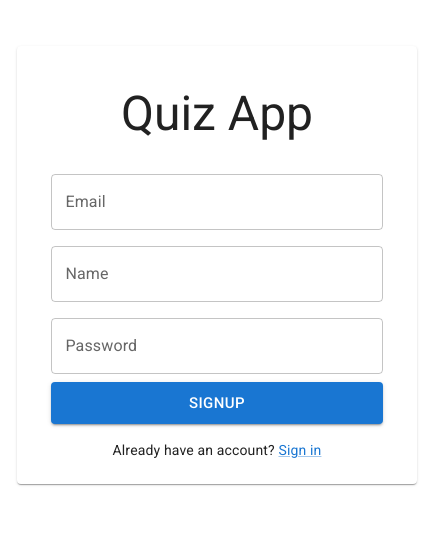
Test: Signup Component › validates email, name, and password fields
The width and height of the screenshot is (435, 538).
Click the button "Signup".
click(217, 403)  # box [51, 382, 383, 424]
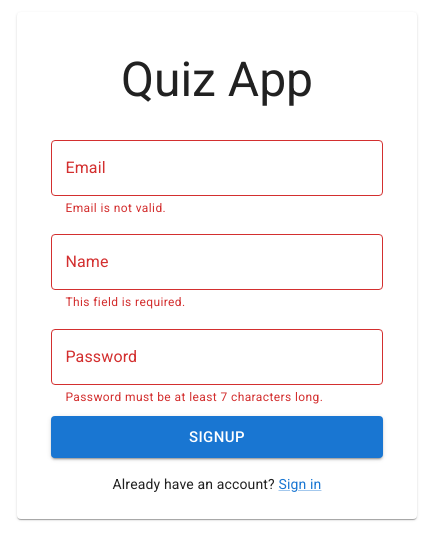
Check: the text "Email is not valid." is shown, box [65, 200, 166, 214]
Check: the text "This field is required." is shown, box [65, 295, 186, 309]
Check: the text "Password must be at least 7 characters long." is shown, box [65, 388, 369, 408]
